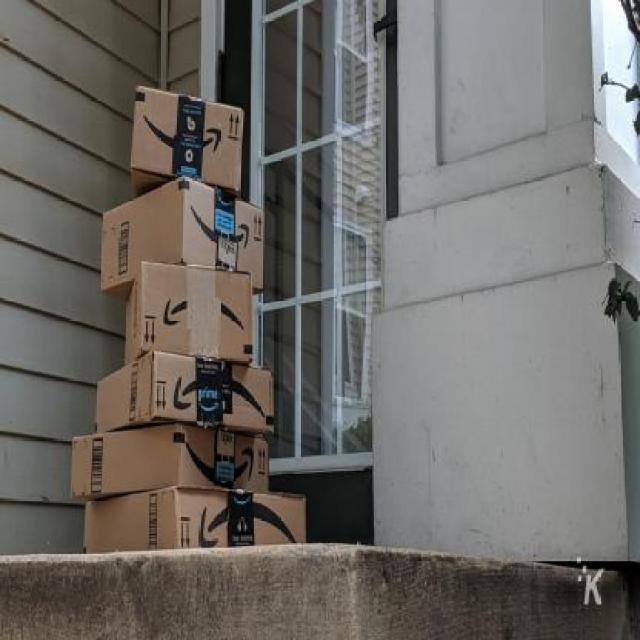box: (102, 177, 266, 301), (72, 420, 270, 500), (95, 350, 275, 433), (122, 259, 255, 369), (84, 486, 307, 551), (128, 83, 244, 196)
